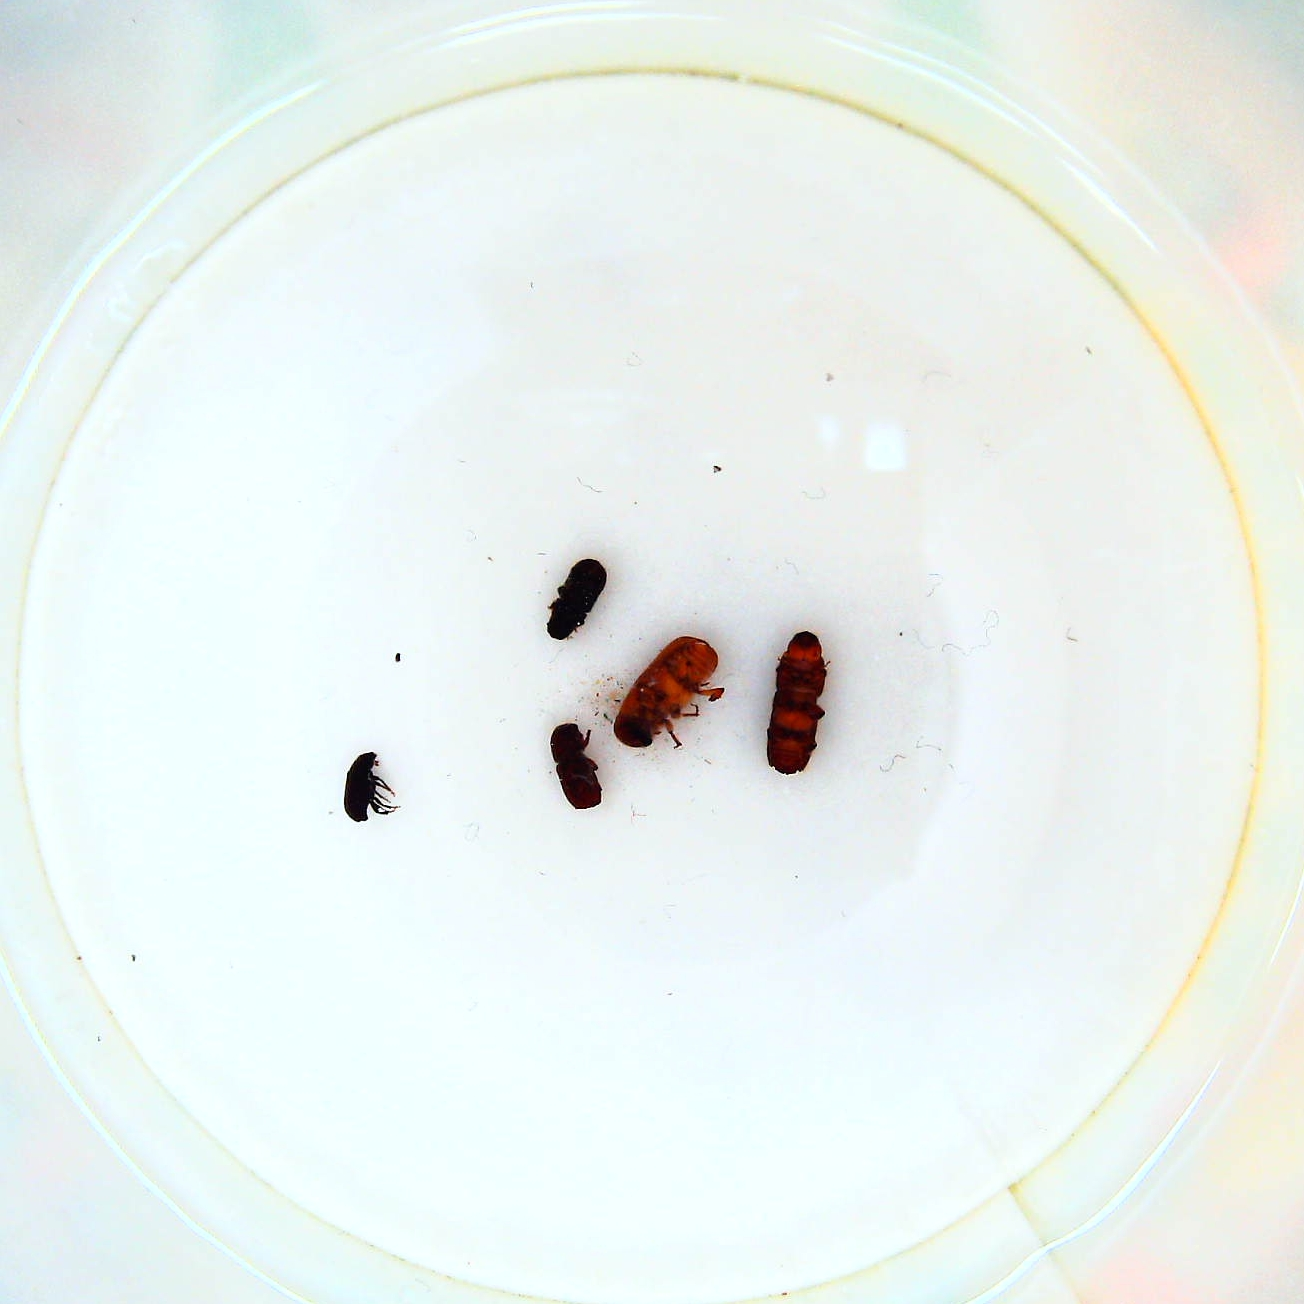Boerner: (764, 625, 839, 779)
Leconte: (610, 625, 728, 756)
armandi: (545, 552, 615, 647)
coleoptera: (344, 744, 400, 832)
linnaeus: (547, 720, 613, 818)
